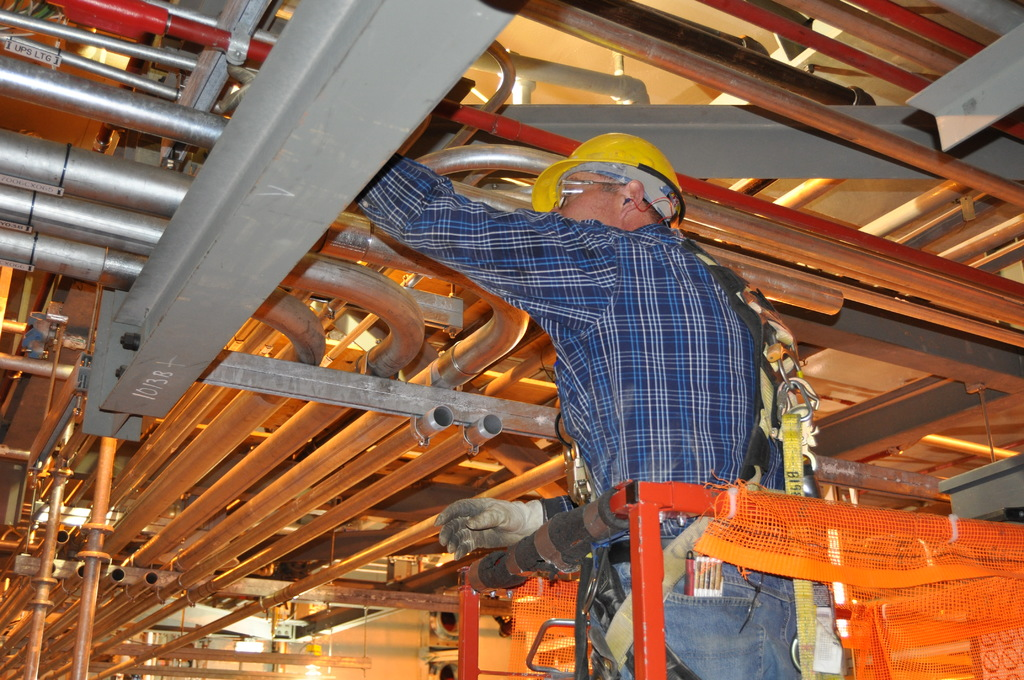Person: (355, 132, 802, 680)
